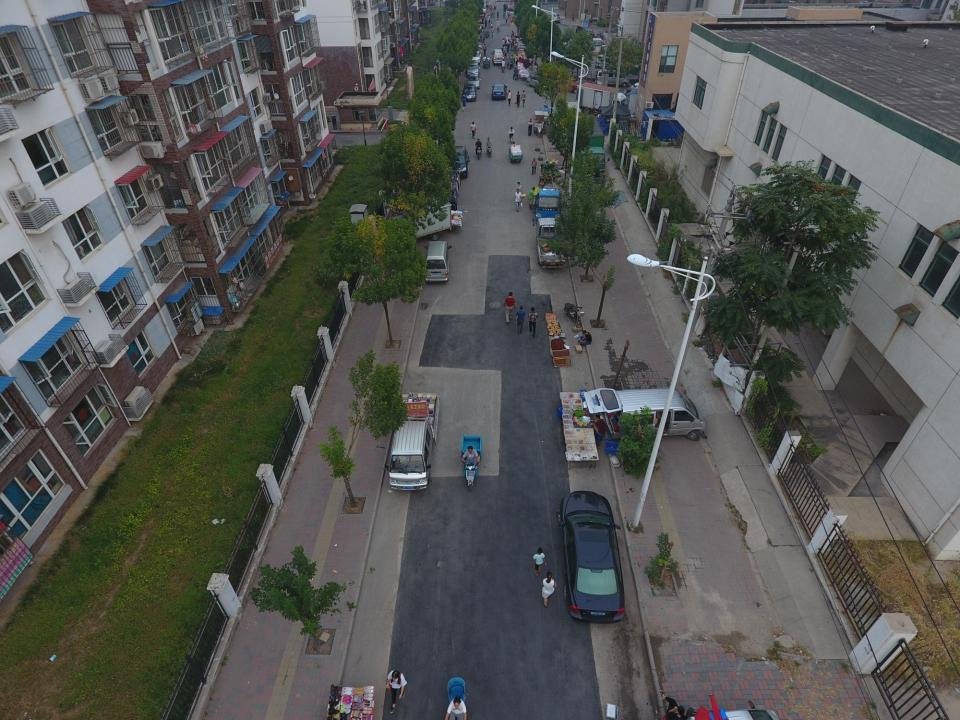car: (556, 490, 625, 624), (564, 78, 606, 96), (447, 146, 469, 178), (460, 83, 478, 101), (527, 75, 550, 89), (492, 84, 507, 100), (466, 62, 480, 77), (467, 50, 481, 64), (466, 74, 480, 88), (550, 13, 560, 23)
truck: (385, 393, 439, 490), (571, 114, 610, 180), (391, 200, 452, 242), (577, 82, 629, 117), (532, 218, 566, 268), (535, 184, 561, 222)
van: (583, 388, 704, 441), (424, 241, 452, 282), (595, 70, 629, 86), (595, 54, 622, 72), (564, 99, 581, 126), (576, 25, 594, 37), (491, 49, 504, 65)
